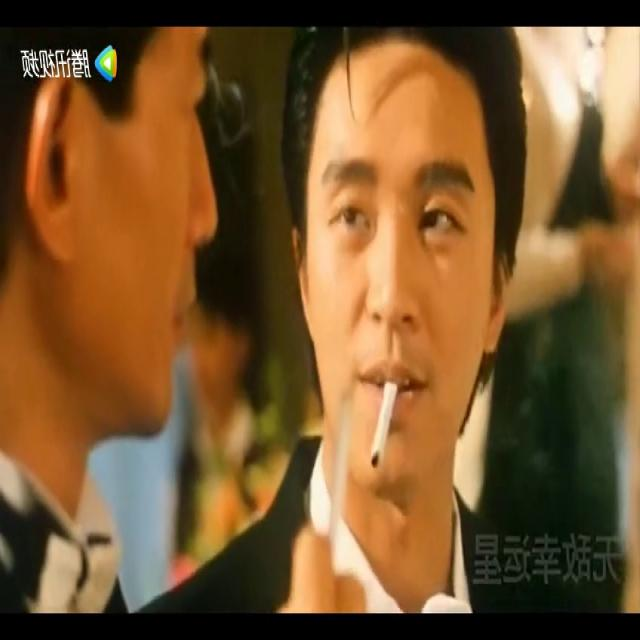smoking: (328, 392, 356, 552), (371, 377, 398, 469)
